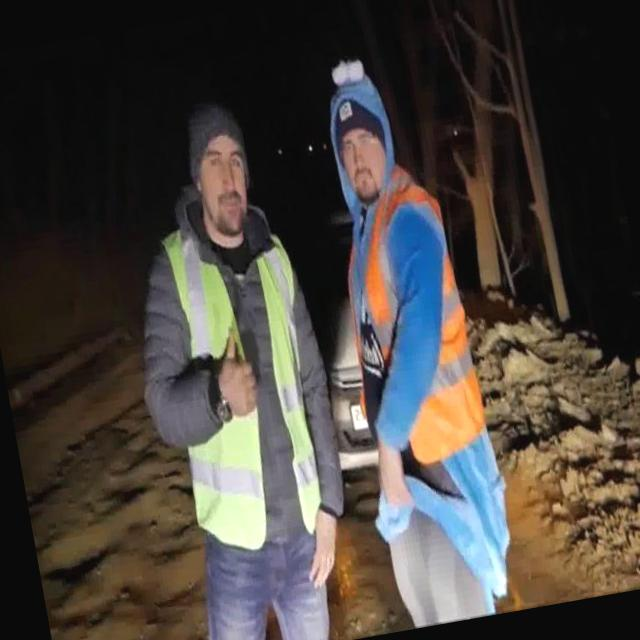vest: (150, 210, 340, 560), (320, 158, 492, 480)
